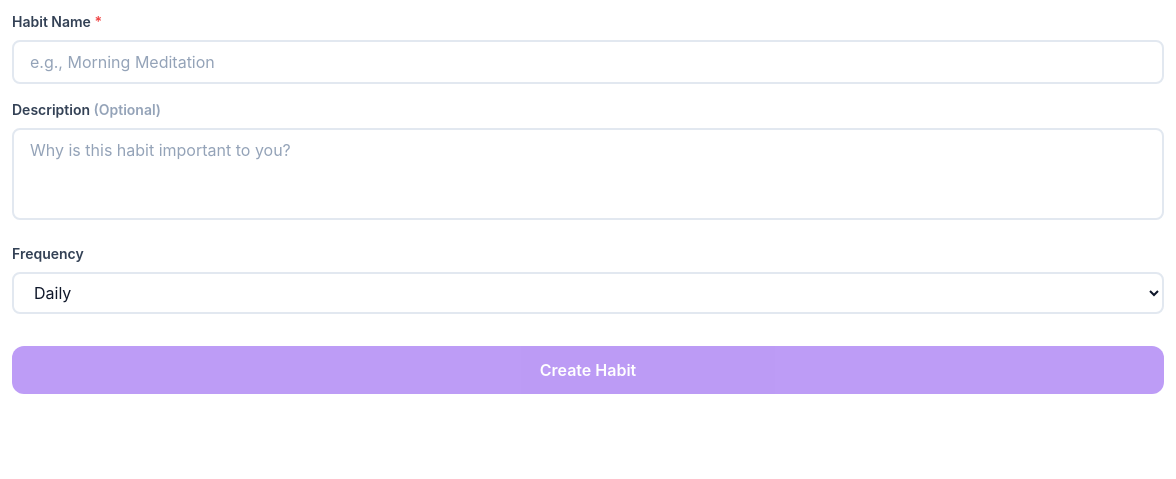
it: habit-form.test.tsx › HabitForm › should display error message on save failure
This screenshot has width=1176, height=479.
In the field with test id "habit-name-input": (588, 62) [12,40,1164,84], type "Test Habit"
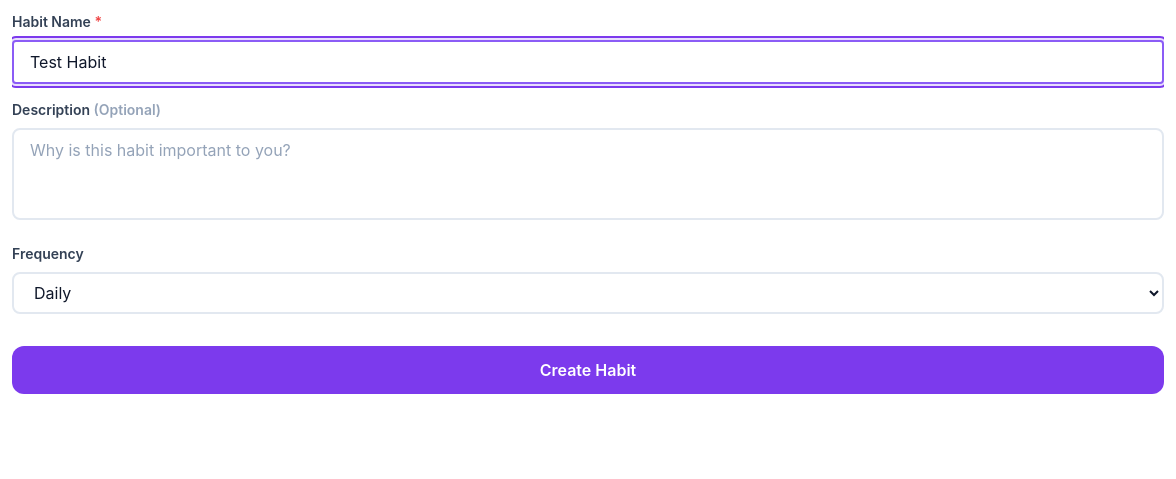
Click the button with test id "habit-save-button": (588, 370) [12,346,1164,394]
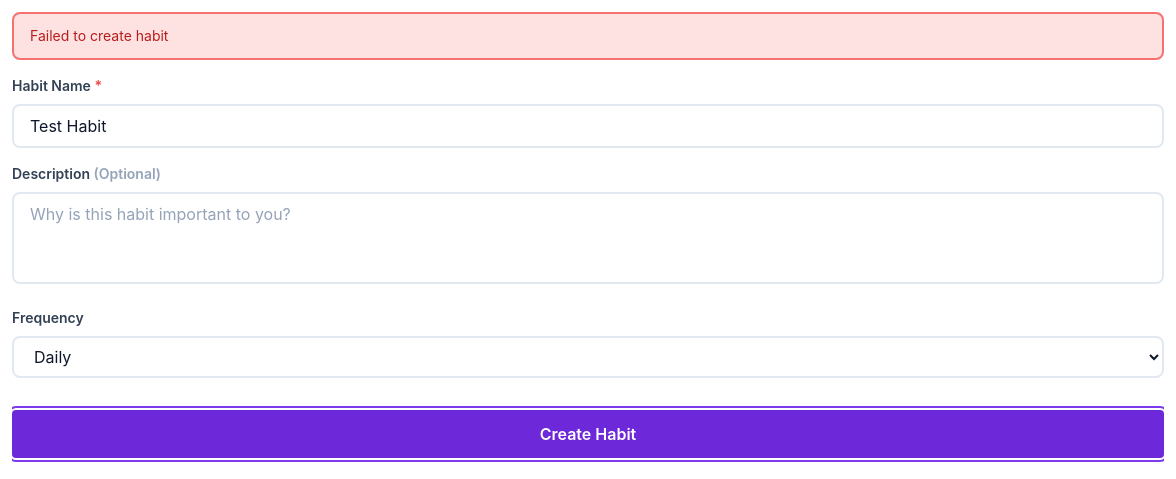
Result: the text "Failed to create habit" is shown at [12,12,1164,60]
